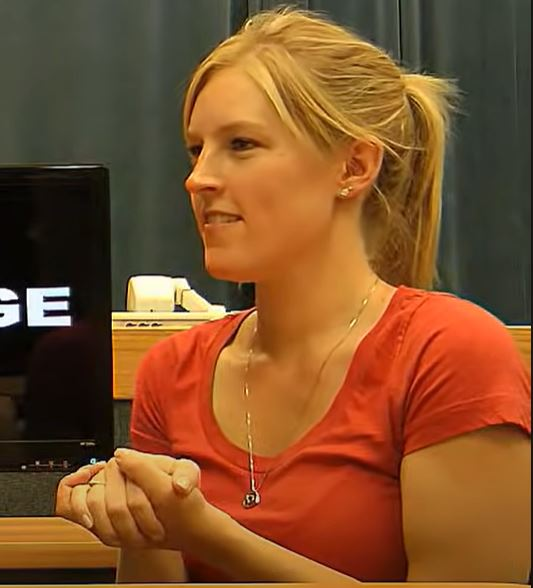Marriage: (38, 428, 260, 574)
